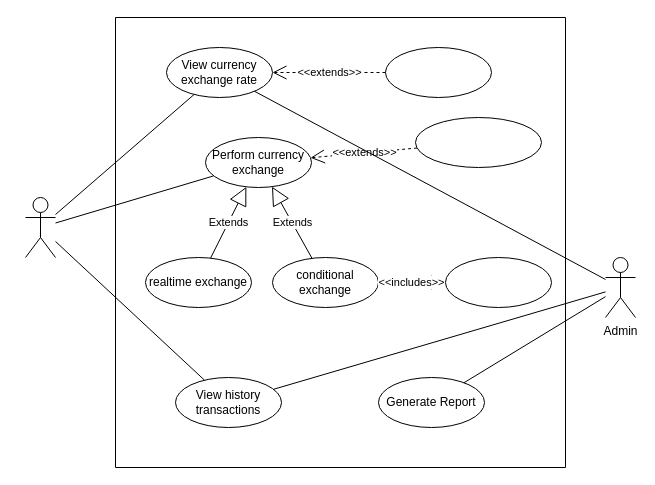
This 655x485 diagram has some shape labels left out. Here are the shapes that lost their labels. From the top down, the box of each, then its label:
(384, 46, 492, 98): Set alarm and notify
(414, 116, 542, 168): Handle transaction Error
(24, 196, 56, 258): EndUser
(444, 256, 552, 308): notify the result
